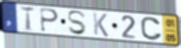2: (120, 15, 137, 40)
C: (140, 16, 164, 42)
K: (92, 12, 110, 38)
P: (39, 7, 60, 34)
S: (66, 10, 88, 36)
T: (20, 5, 37, 33)
